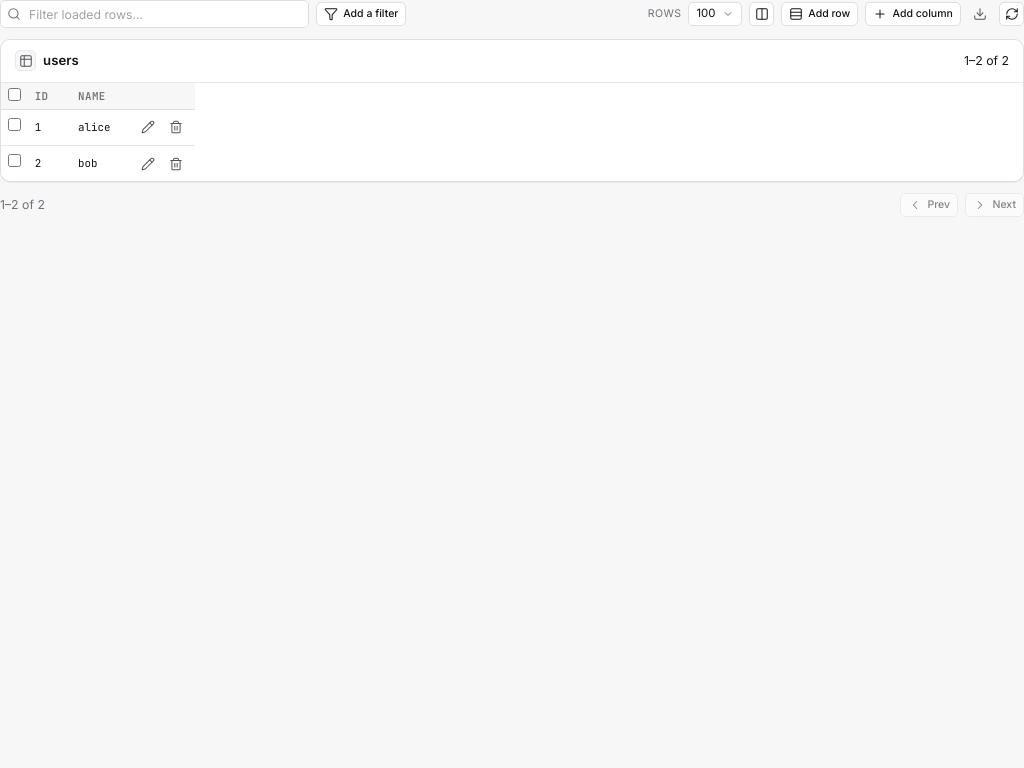
Test case: DataTab › reordering columns › does not offer a move off either end
Click the button named "Columns (". click: {"x": 762, "y": 14}
box: [750, 2, 774, 26]
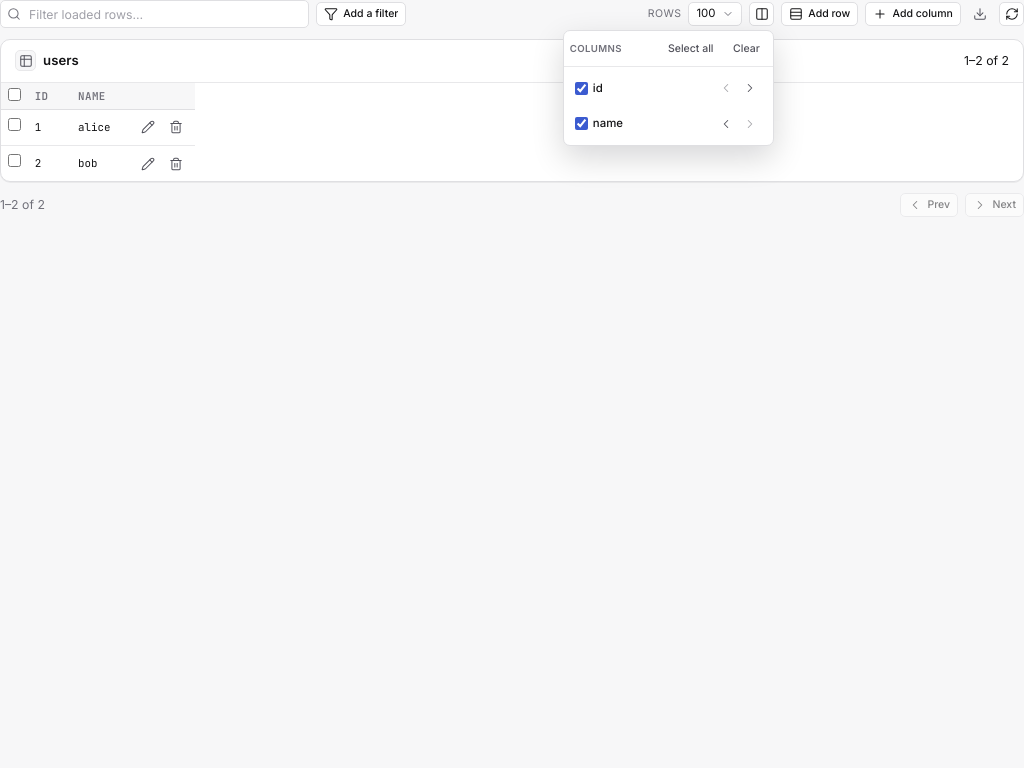
Now the button named "Move id left" is disabled, box [713, 76, 738, 101]
Now the button named "Move name right" is disabled, box [738, 111, 762, 136]
